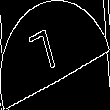L_S: (38, 26, 72, 84)
